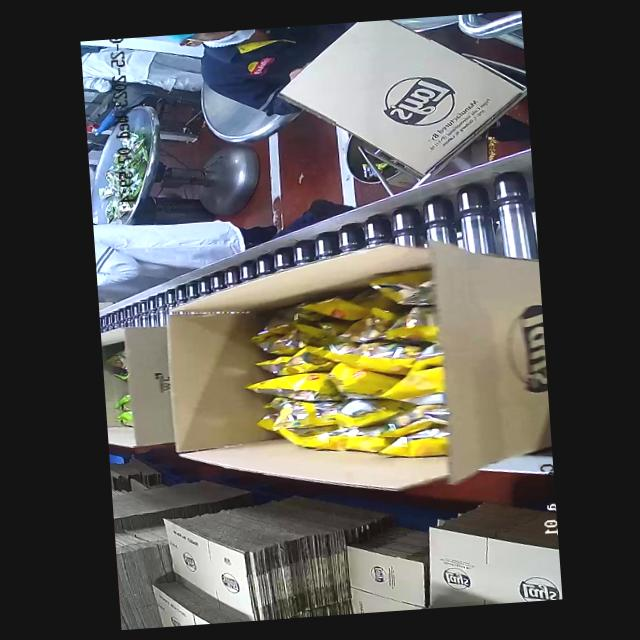salted: (235, 266, 450, 470)
yogurt: (108, 347, 126, 437)
